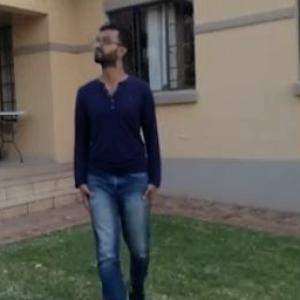follow: (72, 13, 160, 265)
